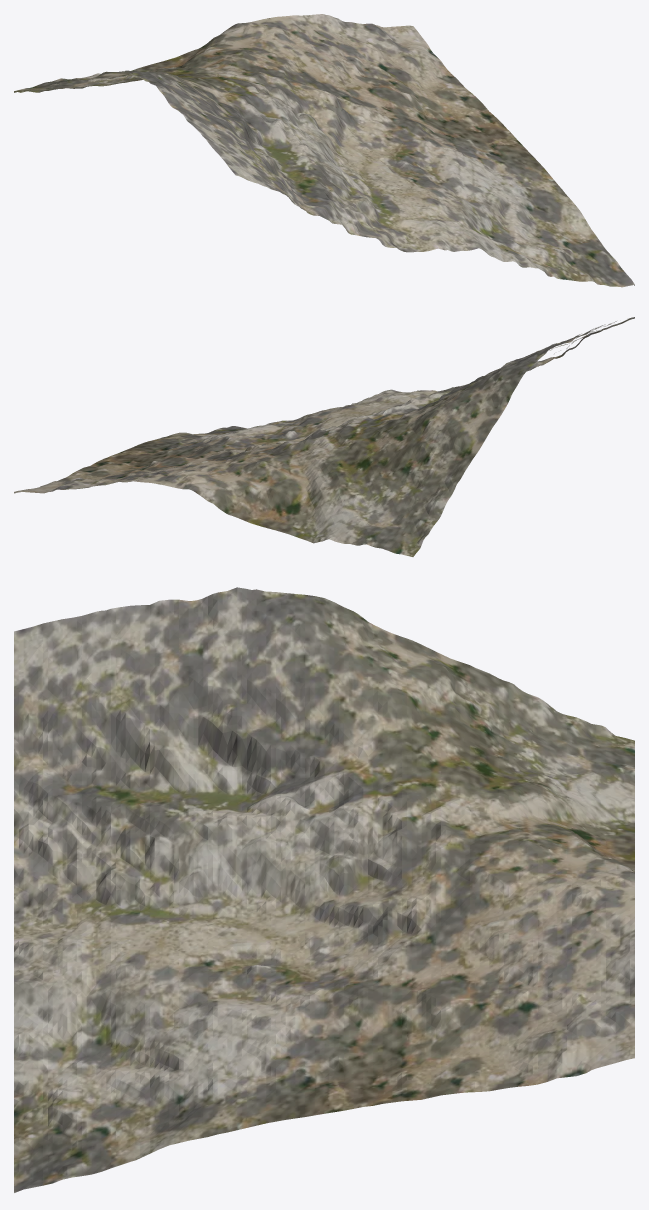
3 renders of one model, top to bottom at view 1: azimuth 30°, elevation 25°; view 2: azimuth 150°, elevation 25°; view 3: azimuth 270°, elevation 25°, orthographic. The views are drawn at different scales.
Size of the model in its own units: 250 by 143 by 241.
1 material, 1 textured.
